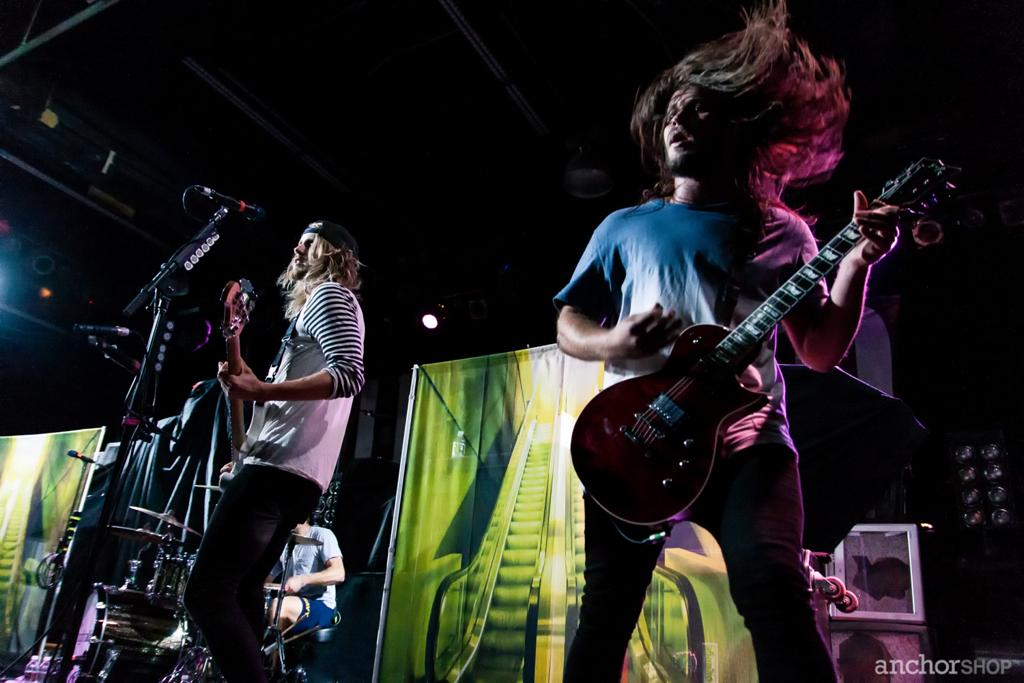face: (663, 88, 720, 171), (293, 233, 323, 277)
